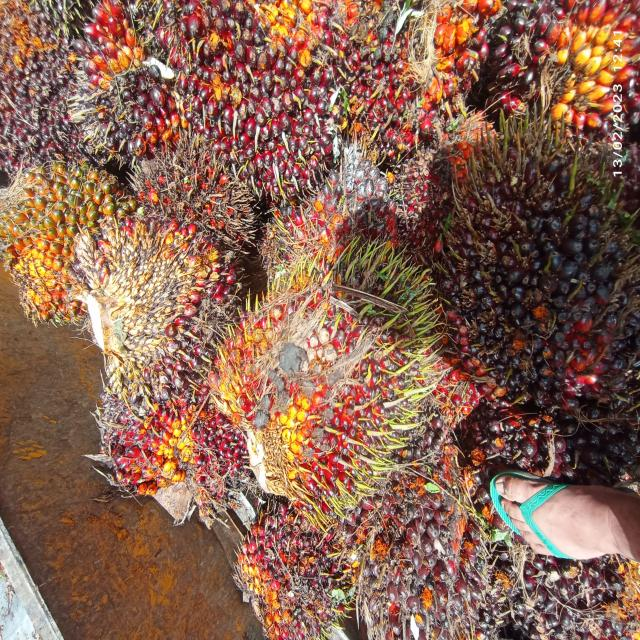fraksi 00: (436, 84, 640, 424)
fraksi 1: (59, 191, 241, 460), (182, 0, 342, 196), (69, 0, 198, 161)
fraksi 3: (198, 202, 428, 540)
fraksi 4: (206, 439, 359, 640), (131, 119, 259, 257)
